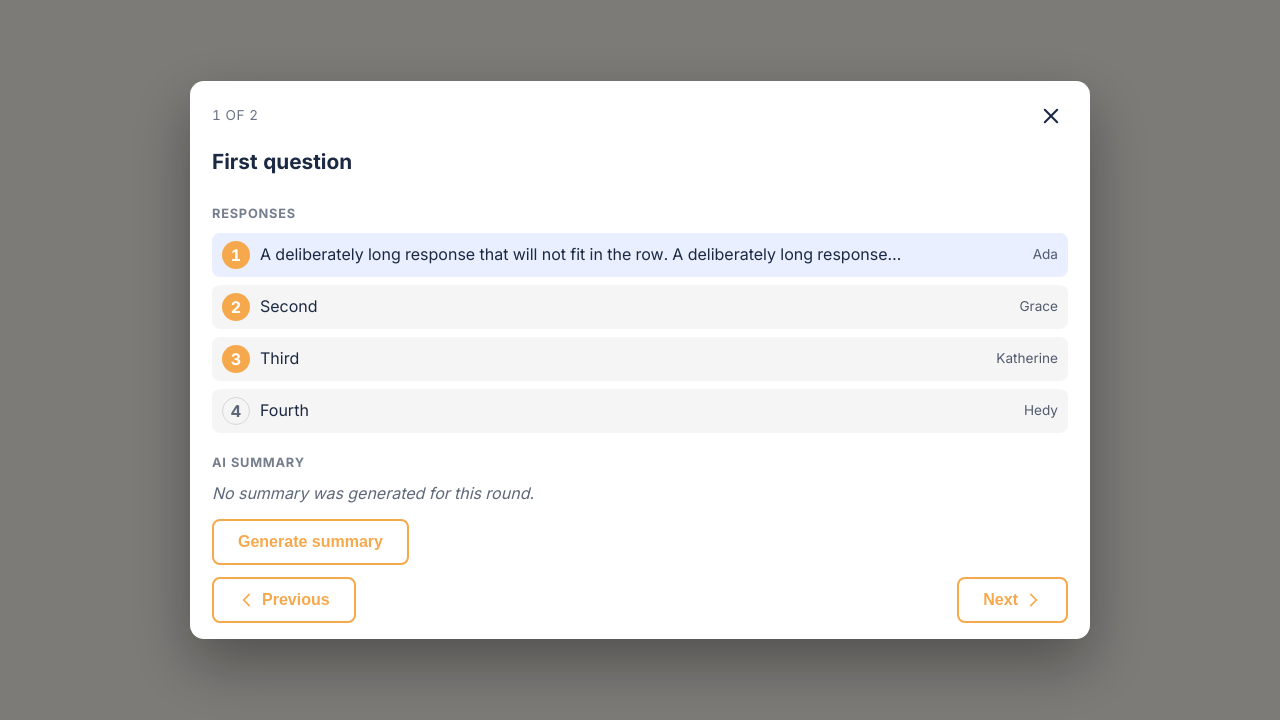
Scenario: opening one response in full › a keypress returns to the round it was opened from
Step 1. Click the button "1" → point(236, 255), box [222,241,250,269]
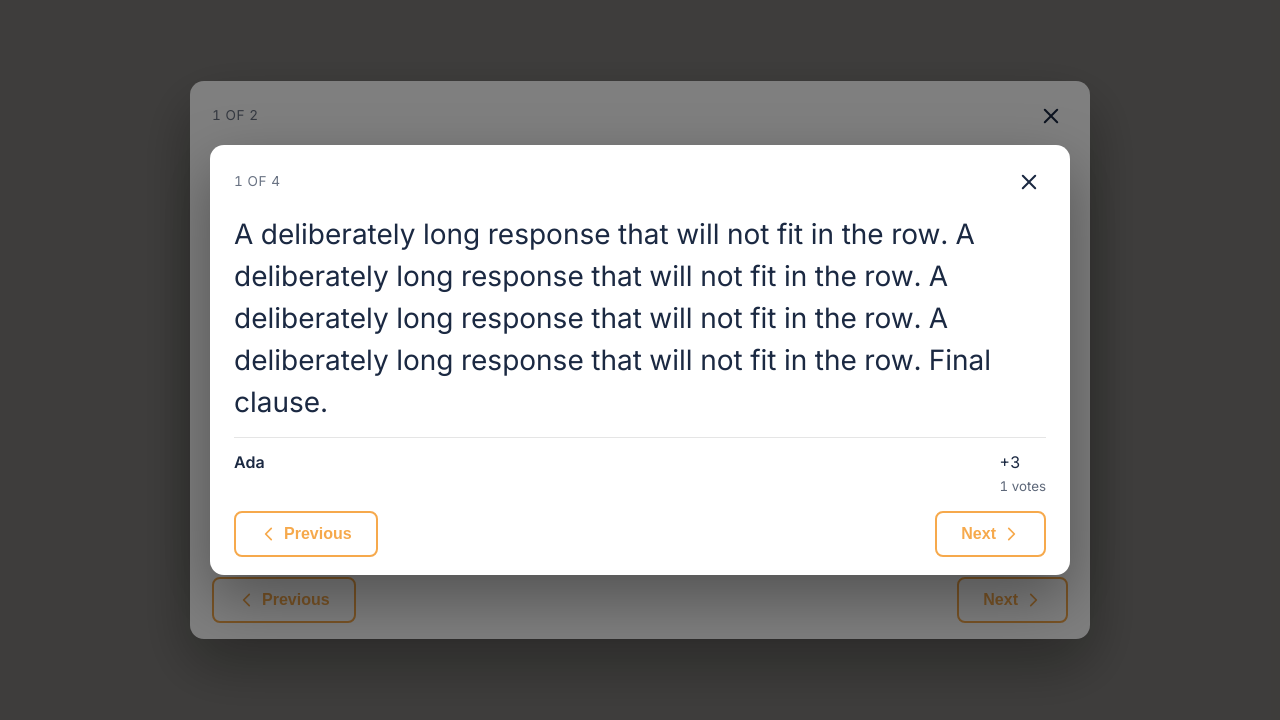
Step 2. Press k
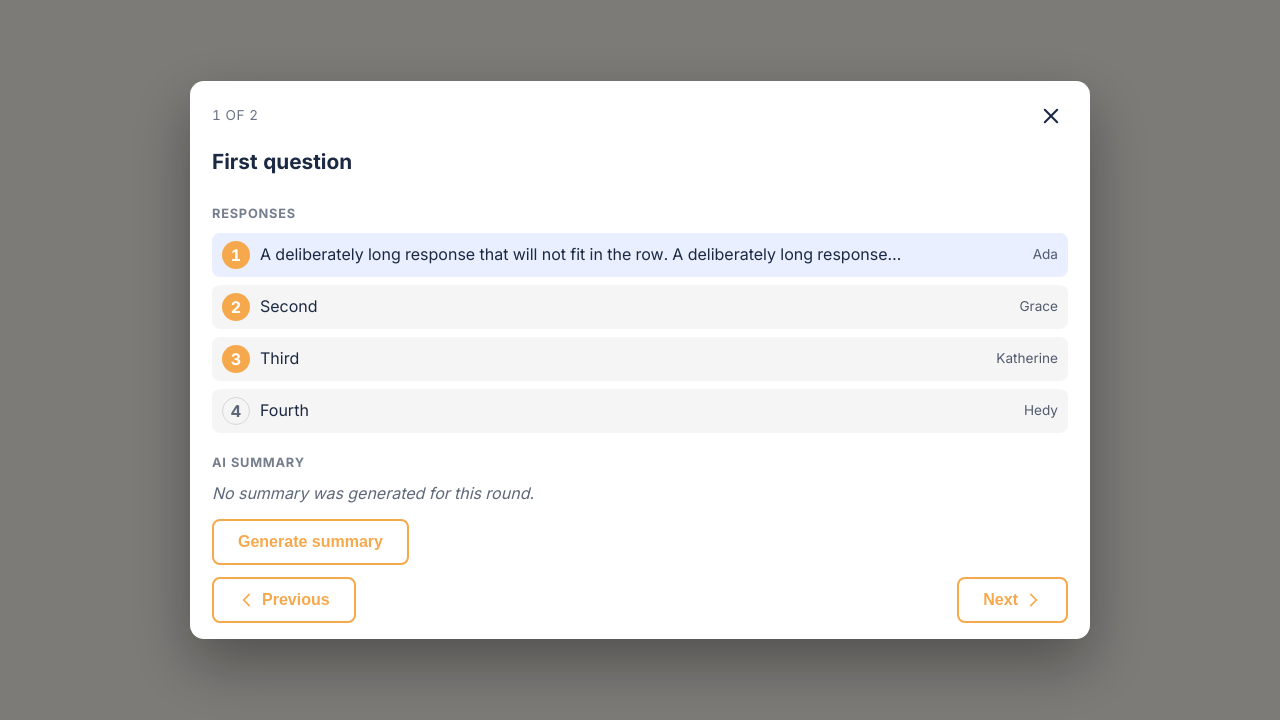
expect the dialog is shown: met, box [190,81,1090,639]
expect the dialog with class "answer-spotlight" is gone: met
